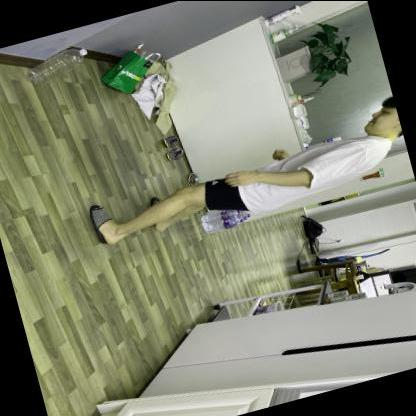no_safety-shoe: (77, 193, 137, 258)
